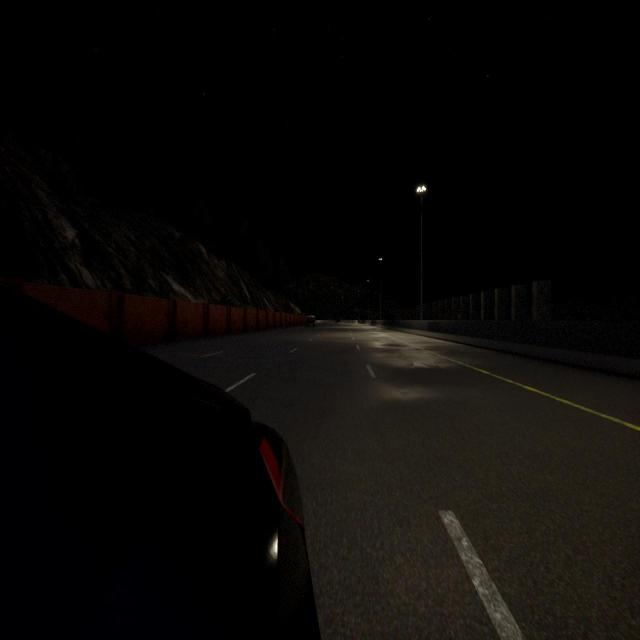Vehicle: (0, 286, 319, 640), (304, 315, 316, 328)
